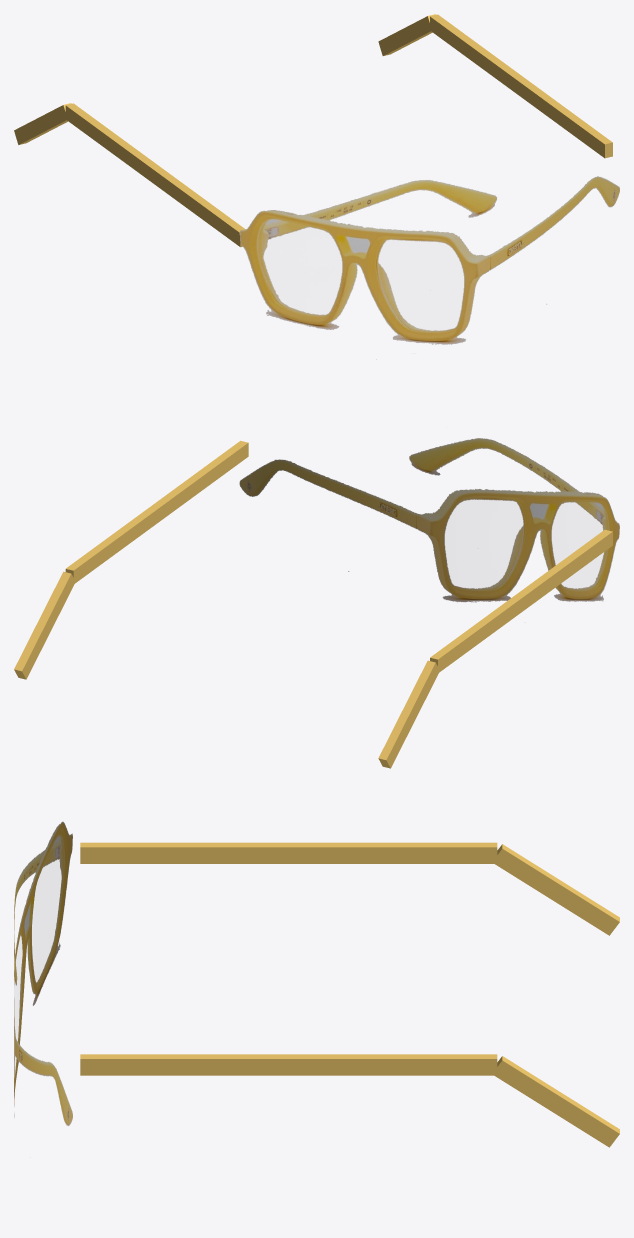
3 renders of one model, top to bottom at view 1: azimuth 30°, elevation 25°; view 2: azimuth 150°, elevation 25°; view 3: azimuth 270°, elevation 25°, orthographic. The views are drawn at different scales.
Parts seen in each view (by area): view 1: anteojo; view 2: anteojo; view 3: anteojo.
Part boxes in pixels (x1=…): anteojo: x1=14, y1=14, x2=619, y2=359; anteojo: x1=14, y1=438, x2=619, y2=768; anteojo: x1=14, y1=821, x2=619, y2=1147.
Size of the model in its own units: 0.142 by 0.0615 by 0.1644.
Materials: 2 (1 with a texture image).
